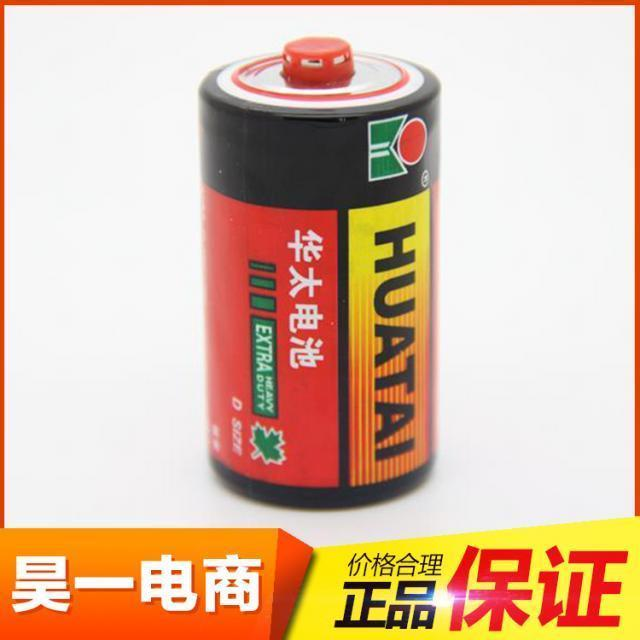Hazard: (197, 34, 440, 513)
